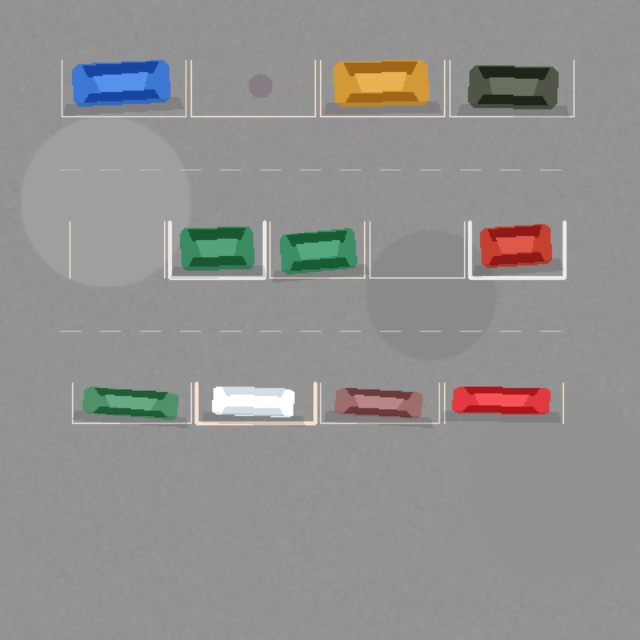space-empty: (191, 60, 315, 116), (69, 221, 164, 277), (369, 221, 464, 277)
space-occupied: (61, 60, 185, 116), (320, 60, 444, 116), (449, 60, 573, 116), (169, 221, 264, 277), (269, 221, 364, 277), (469, 221, 564, 277), (72, 383, 191, 423), (196, 383, 315, 423), (320, 383, 439, 423), (444, 383, 563, 423)
